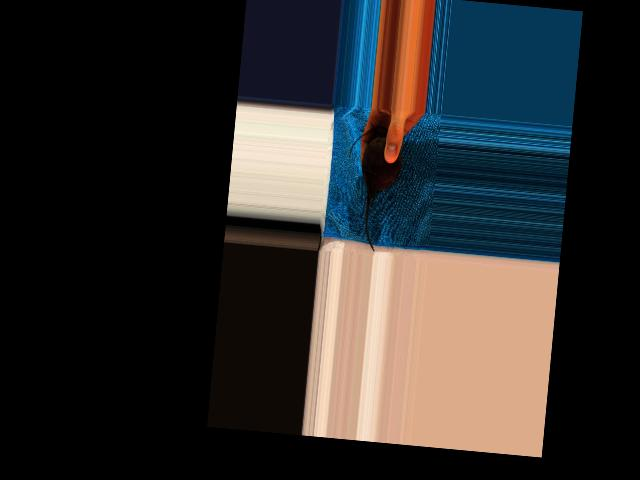beet: (341, 124, 405, 253)
